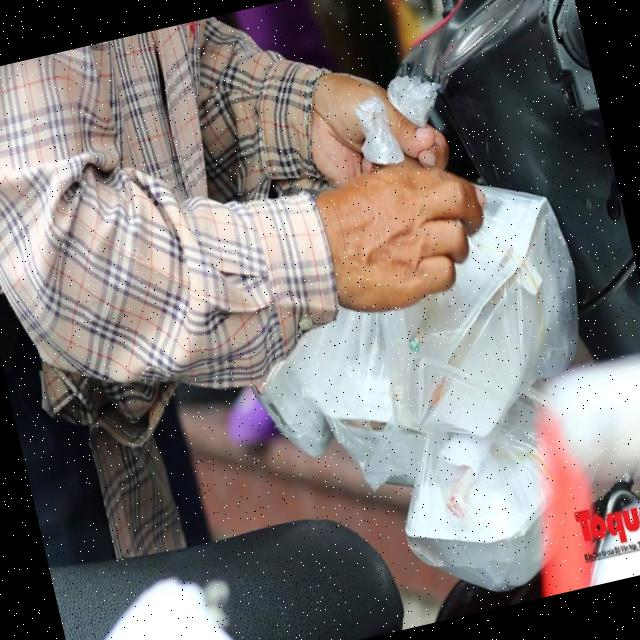styrofoam: (186, 177, 631, 640)
